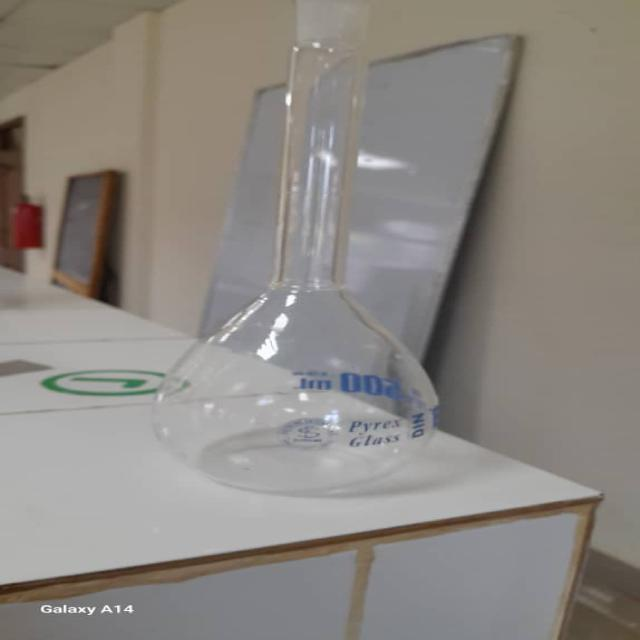Volumetric flask: (142, 0, 444, 494)
